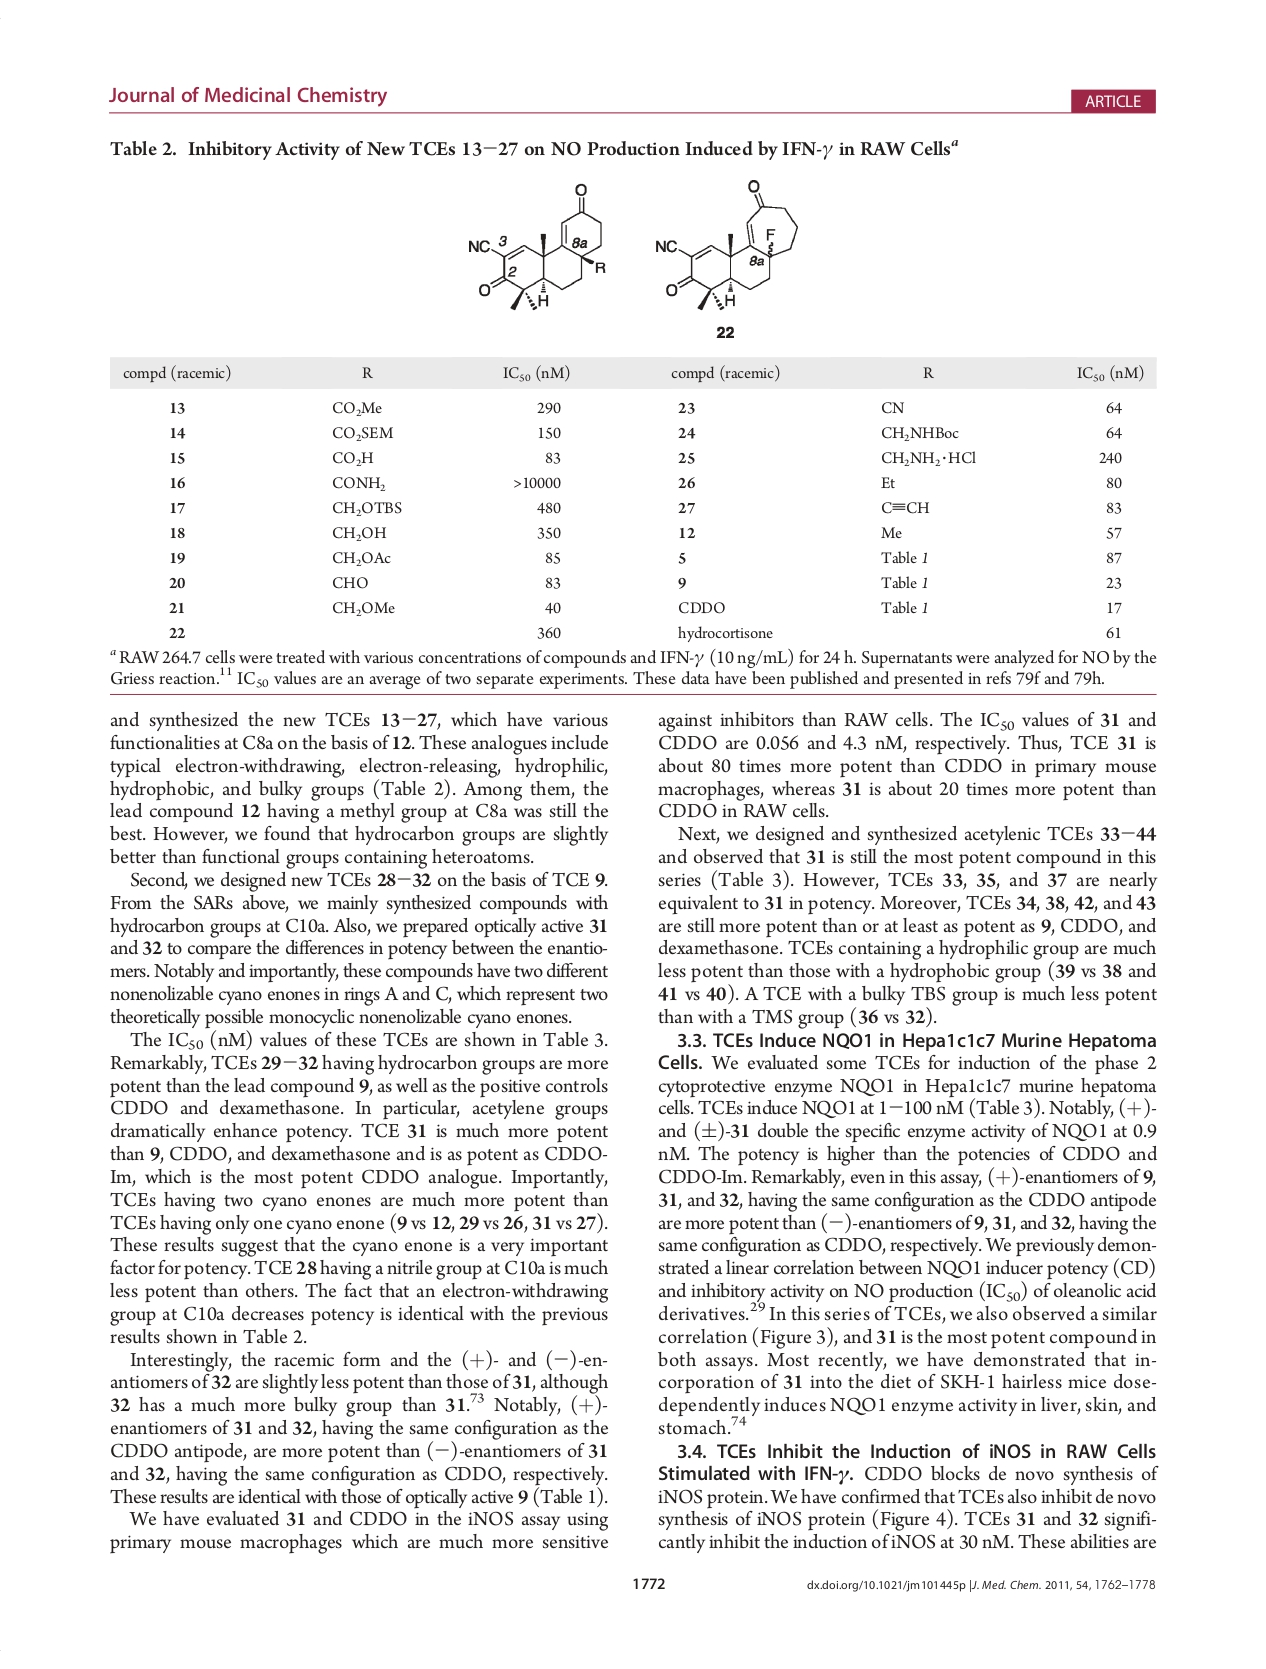exist_molecular: (654, 178, 799, 313), (465, 181, 606, 311)
